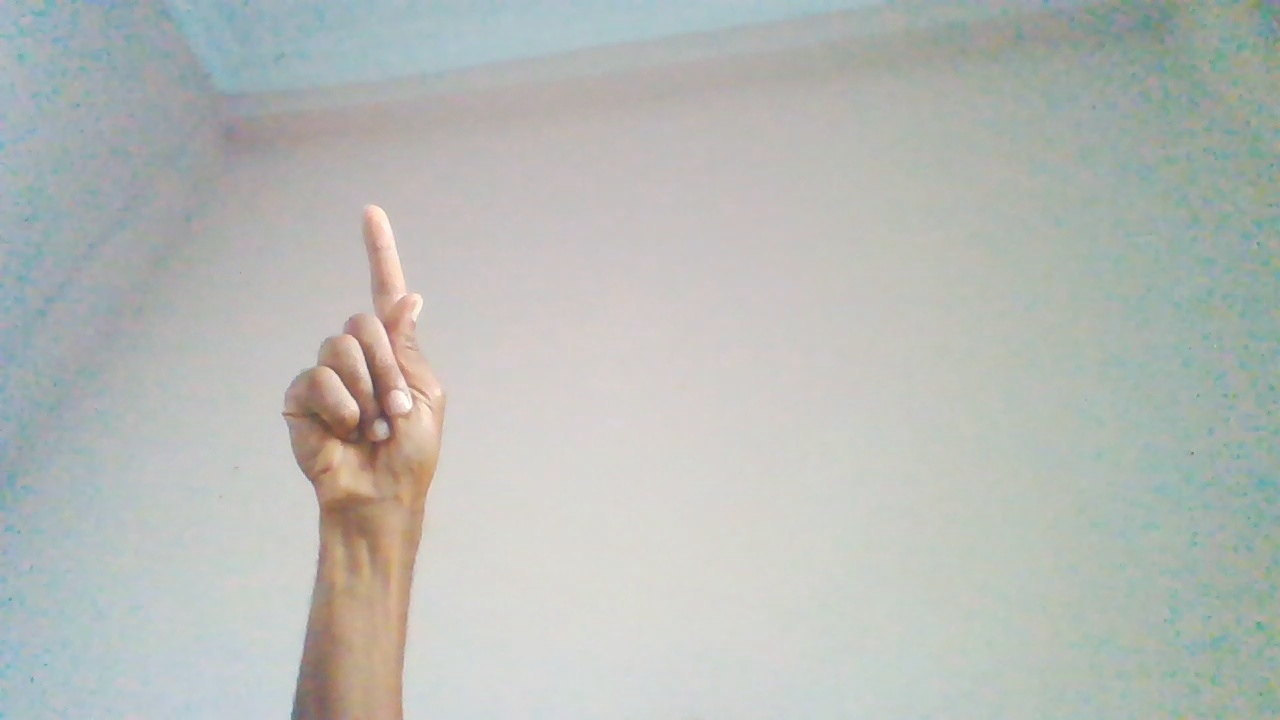ne: (282, 206, 448, 602)
